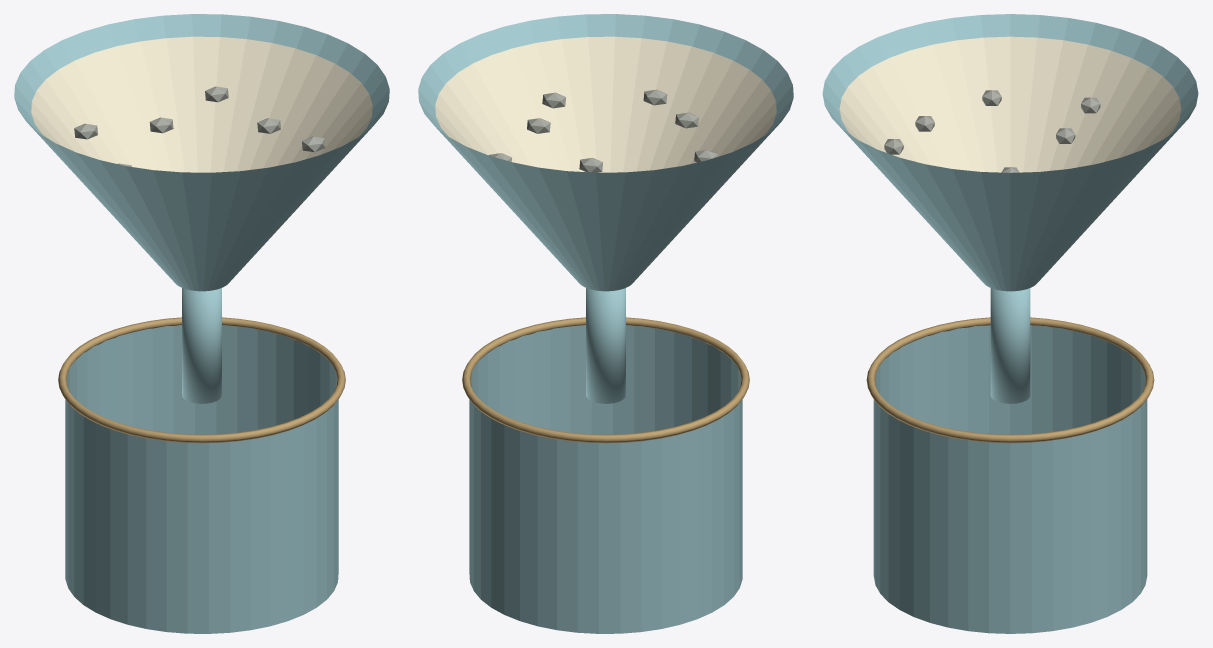
The model's file is filtration.glb.
3 renders of one model, left to right at view 1: azimuth 30°, elevation 25°; view 2: azimuth 150°, elevation 25°; view 3: azimuth 270°, elevation 25°, orthographic.
Visible parts, largest first — view 1: filtration_glass_beaker, filtration_filter_paper, filtration_funnel, filtration_beaker_rim, filtration_funnel_tube; view 2: filtration_glass_beaker, filtration_filter_paper, filtration_funnel, filtration_beaker_rim, filtration_funnel_tube; view 3: filtration_glass_beaker, filtration_filter_paper, filtration_funnel, filtration_beaker_rim, filtration_funnel_tube.
Boxes of the visible parts, x1,y1,x2,y2 form: filtration_glass_beaker: [65, 325, 338, 633]; filtration_filter_paper: [31, 36, 372, 172]; filtration_funnel: [14, 14, 389, 291]; filtration_beaker_rim: [58, 317, 345, 443]; filtration_funnel_tube: [182, 288, 221, 403]; filtration_glass_beaker: [469, 325, 742, 633]; filtration_filter_paper: [435, 36, 776, 172]; filtration_funnel: [418, 14, 793, 291]; filtration_beaker_rim: [462, 317, 749, 443]; filtration_funnel_tube: [586, 288, 625, 403]; filtration_glass_beaker: [873, 325, 1147, 633]; filtration_filter_paper: [839, 36, 1181, 172]; filtration_funnel: [822, 14, 1198, 291]; filtration_beaker_rim: [866, 317, 1154, 443]; filtration_funnel_tube: [990, 288, 1030, 403].
Size of the model in its own units: 1.32 by 1.87 by 1.32.
